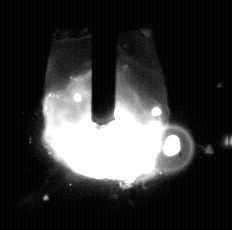arame: (92, 0, 117, 125)
poca: (42, 0, 170, 230)
